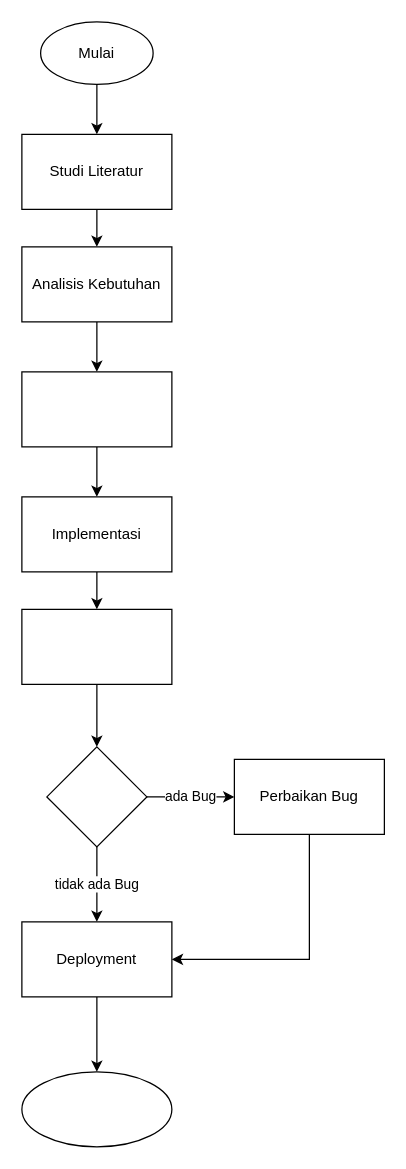
This 406x1169 diagram has some shape labels left out. Each missing label, with the centre of its shape:
Pengujian: point 96,646
Perancangan: point 96,409
Selesai: point 96,1109
